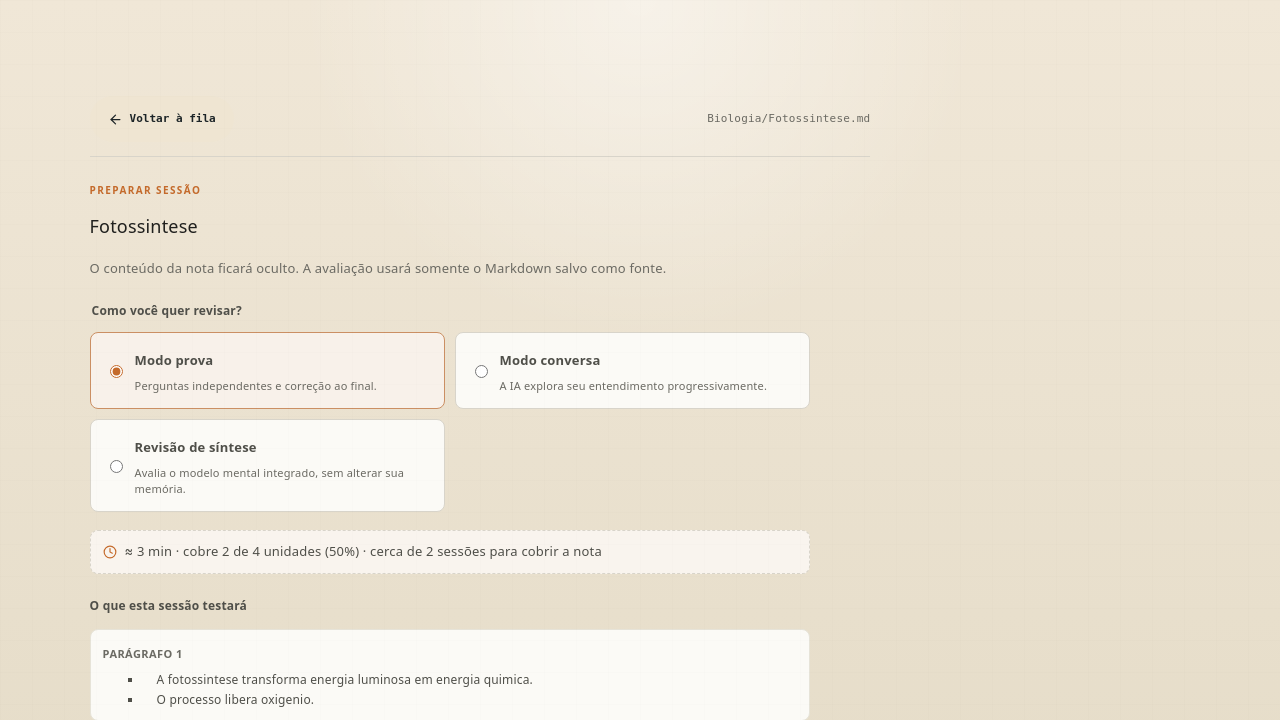
Test: ReviewSessionPage › shows the evaluable points of each target unit on the setup screen
Expected: the heading "O que esta sessão testará" is shown, [90,597,247,614]
Expected: the text "Parágrafo 1" is shown, [103,646,183,661]
Click the radio button labelled "Modo conversa" at [481, 372], box [475,349,488,394]
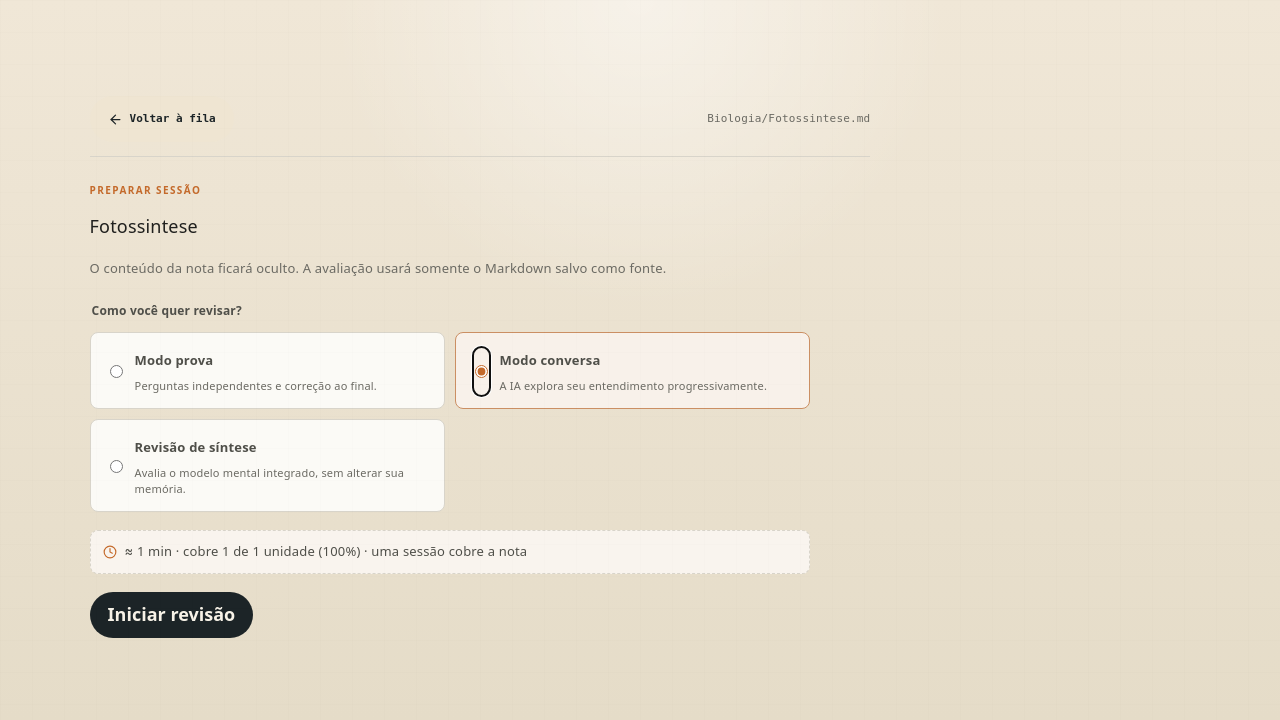
Expected: the heading "O que esta sessão testará" is gone
